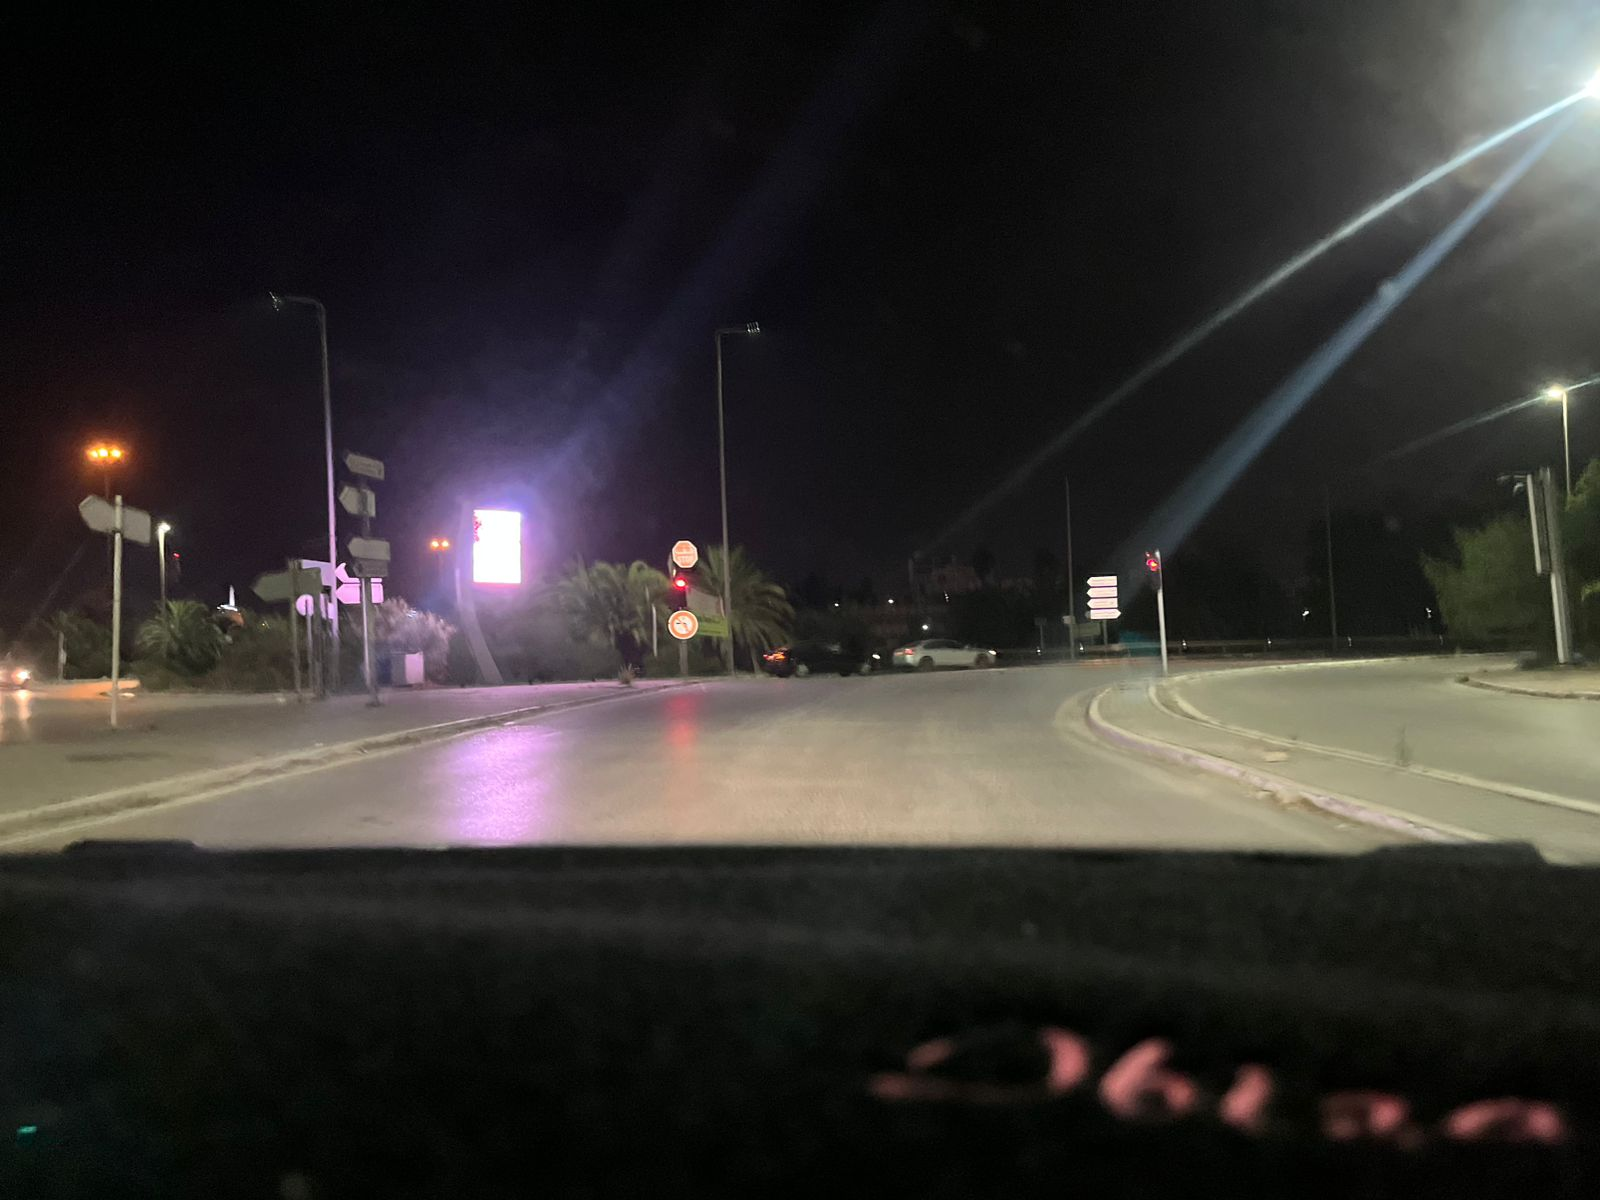RedLight: (1145, 549, 1165, 592), (671, 576, 688, 608)
Stop: (672, 540, 698, 568)
